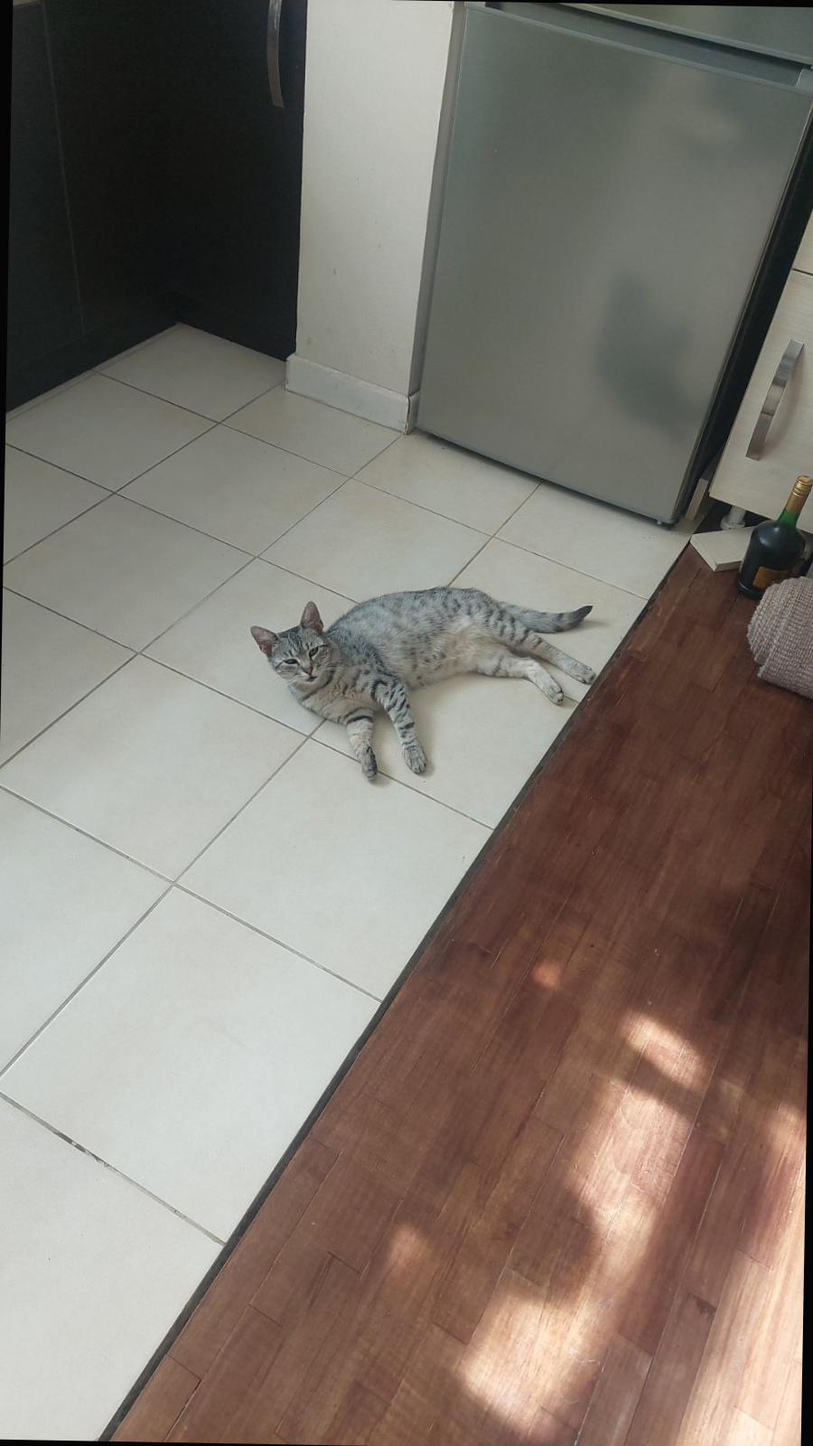macka: (247, 582, 598, 783)
